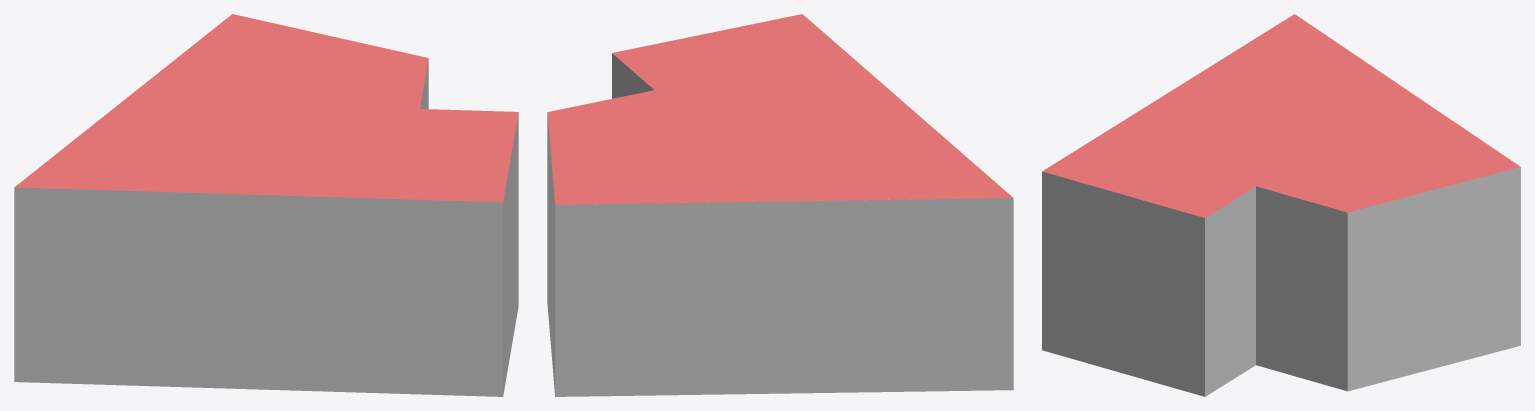
The model's file is ID_a4972fa6-d861-4a09-aeb4-2b42163280a7.gltf.
3 views of the same model, side by side, from view 1: azimuth 30°, elevation 25°; view 2: azimuth 150°, elevation 25°; view 3: azimuth 270°, elevation 25° (orthographic). The views are drawn at different scales.
Parts seen in each view (by area): view 1: Z_UP; view 2: Z_UP; view 3: Z_UP.
Boxes of the visible parts, x1,y1,x2,y2 form: Z_UP: [14, 14, 518, 396]; Z_UP: [547, 14, 1013, 396]; Z_UP: [1042, 14, 1520, 396].
Bounding box in the file's own units: 31.89 × 13.03 × 31.61.
